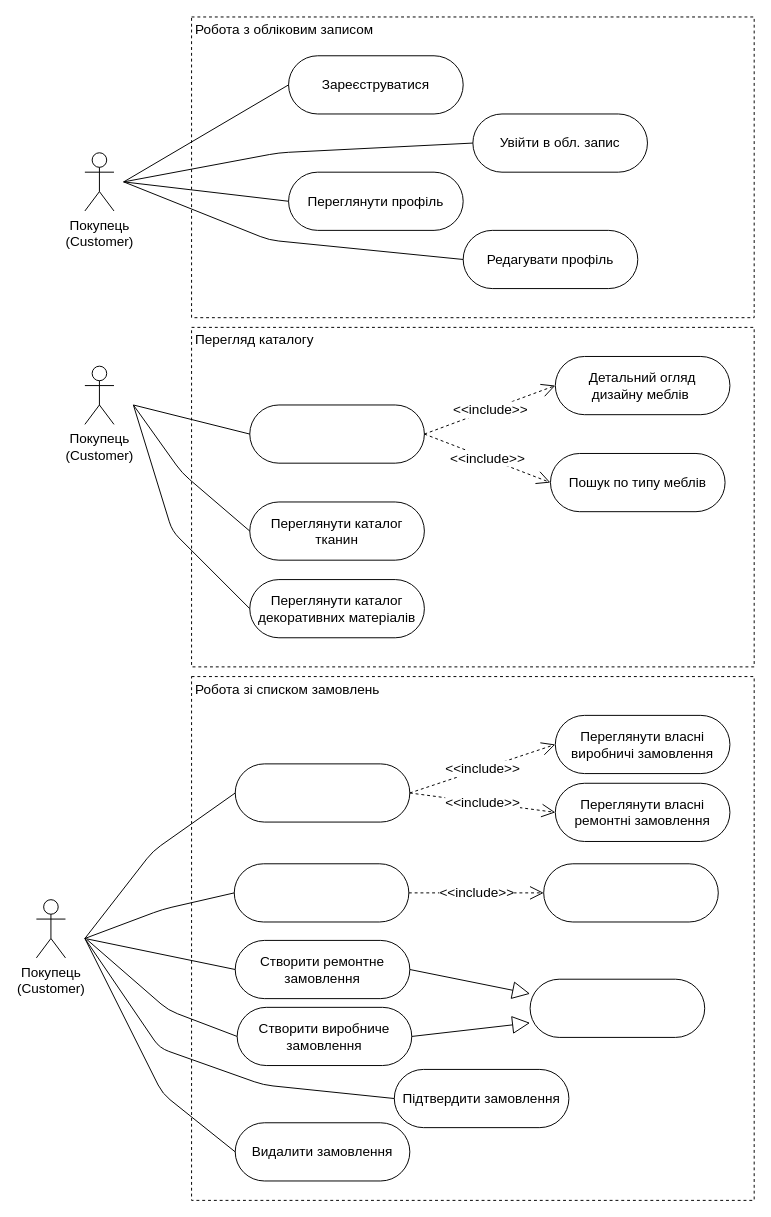
Some shapes in this 771 by 1217 pixel diagram are drawn without their labels. The centre of each missing label's shape, as x and y in pixels:
"Переглянути детальну інформацію про замовлення" goes at point (321, 892).
"Переглянути каталог меблів" goes at point (336, 433).
"Переглянути список замовлень" goes at point (322, 792).
"Переглянути сповіщення" goes at point (630, 892).
"Створити замовлення" goes at point (617, 1007).
